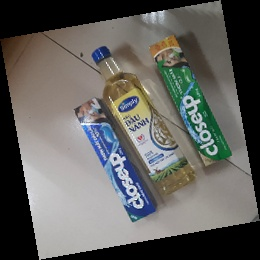CloseUp Tuyet: (74, 97, 159, 221)
CloseUp Xanh: (146, 33, 234, 171)
Simply: (88, 45, 199, 200)
